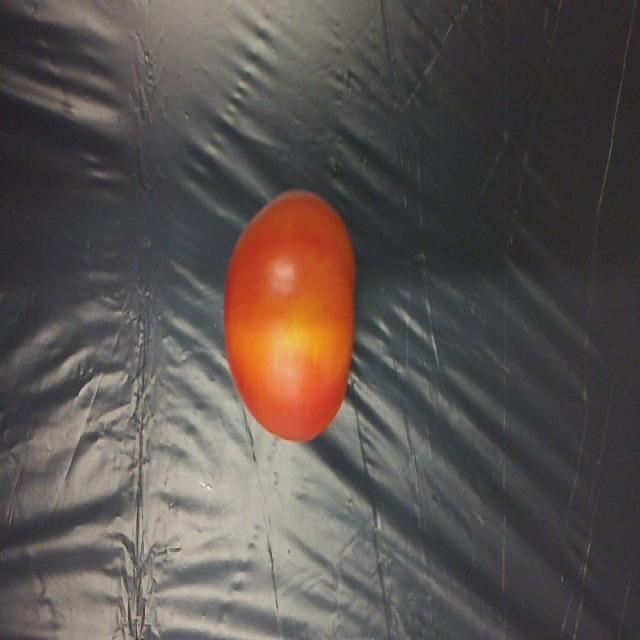sari: (194, 169, 370, 461)
